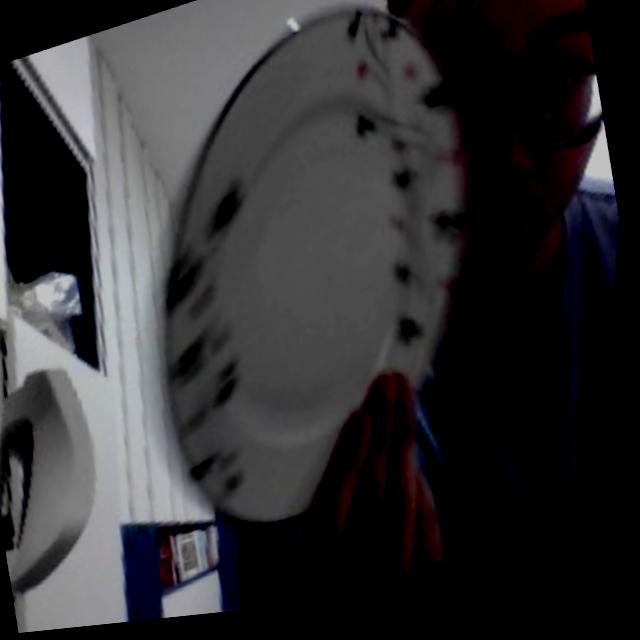Plate: (167, 5, 472, 517)
